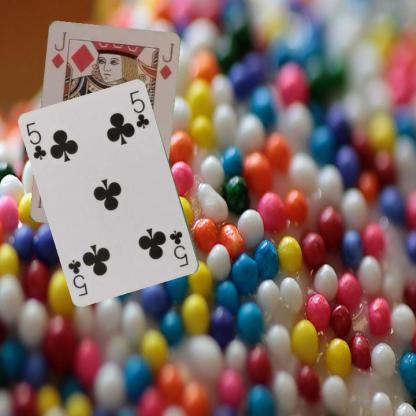5c: (23, 119, 48, 161), (167, 228, 190, 268)
Jd: (49, 29, 71, 74)
